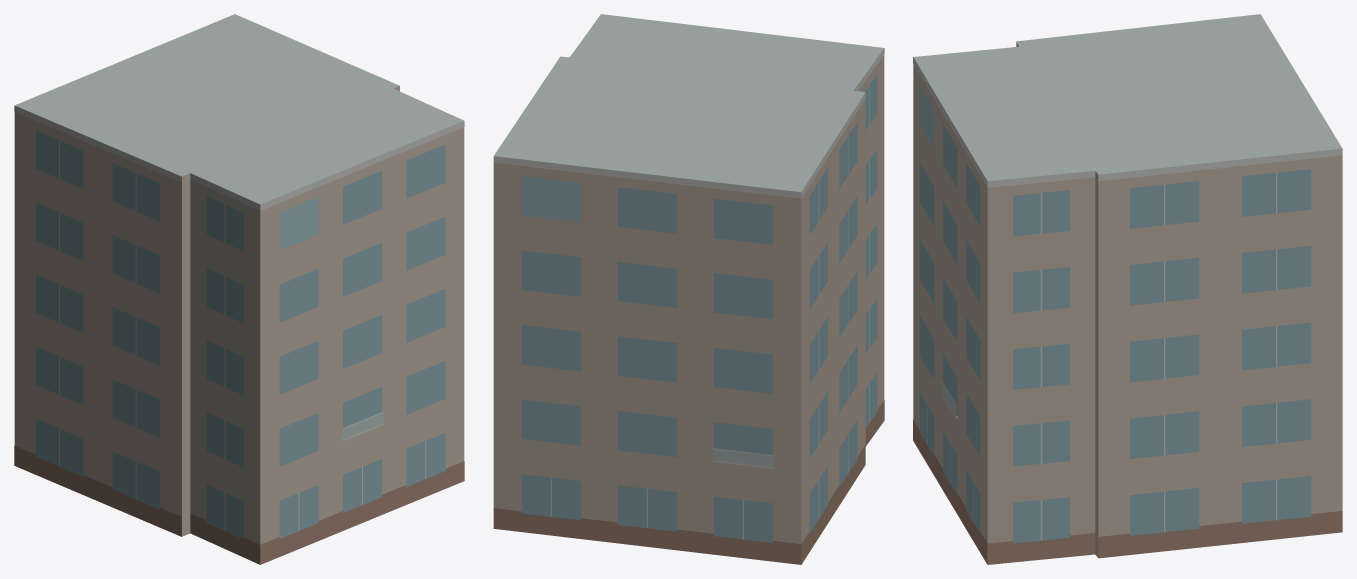
The model's file is survey-upis-32704845.glb.
The picture shows the model from 3 angles, left to right: view 1: azimuth 30°, elevation 25°; view 2: azimuth 150°, elevation 25°; view 3: azimuth 270°, elevation 25°; orthographic projection. The views are drawn at different scales.
Visible parts, largest first — view 1: survey-upis-32704845.tmp; view 2: survey-upis-32704845.tmp; view 3: survey-upis-32704845.tmp.
Part boxes in pixels (bbox=[...]): survey-upis-32704845.tmp: bbox=[14, 14, 464, 564]; survey-upis-32704845.tmp: bbox=[493, 14, 884, 564]; survey-upis-32704845.tmp: bbox=[913, 14, 1342, 564].
Size of the model in its own units: 13.19 by 14.1 by 14.31.
